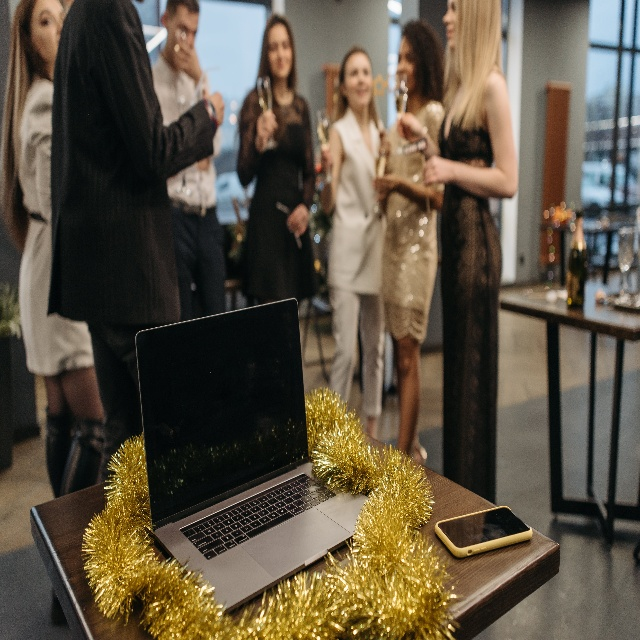Sin_guantes: (200, 86, 225, 123), (423, 153, 454, 182), (372, 171, 398, 201), (287, 203, 310, 235), (397, 112, 421, 141), (256, 108, 278, 139)
